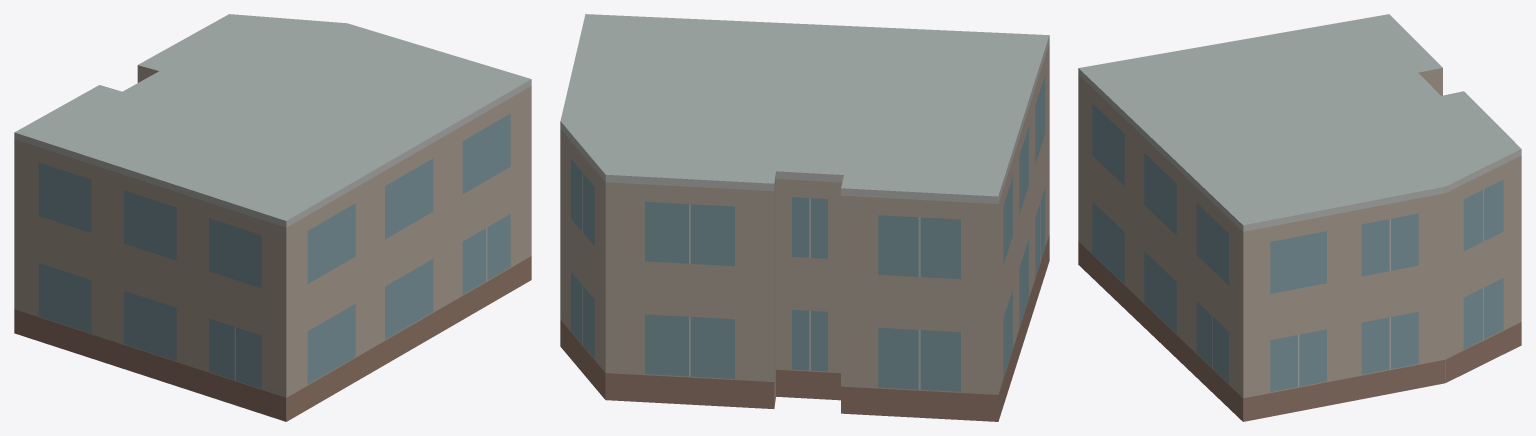
Rendered from survey-upis-32906579.glb.
3 renders of one model, left to right at view 1: azimuth 30°, elevation 25°; view 2: azimuth 150°, elevation 25°; view 3: azimuth 270°, elevation 25°, orthographic. The views are drawn at different scales.
Visible parts, largest first — view 1: survey-upis-32906579.tmp; view 2: survey-upis-32906579.tmp; view 3: survey-upis-32906579.tmp.
Boxes of the visible parts, x1=… form: survey-upis-32906579.tmp: x1=14, y1=14, x2=531, y2=421; survey-upis-32906579.tmp: x1=560, y1=14, x2=1049, y2=421; survey-upis-32906579.tmp: x1=1078, y1=14, x2=1521, y2=421.
Bounding box in the file's own units: 16.85 × 7.3 × 14.93.
